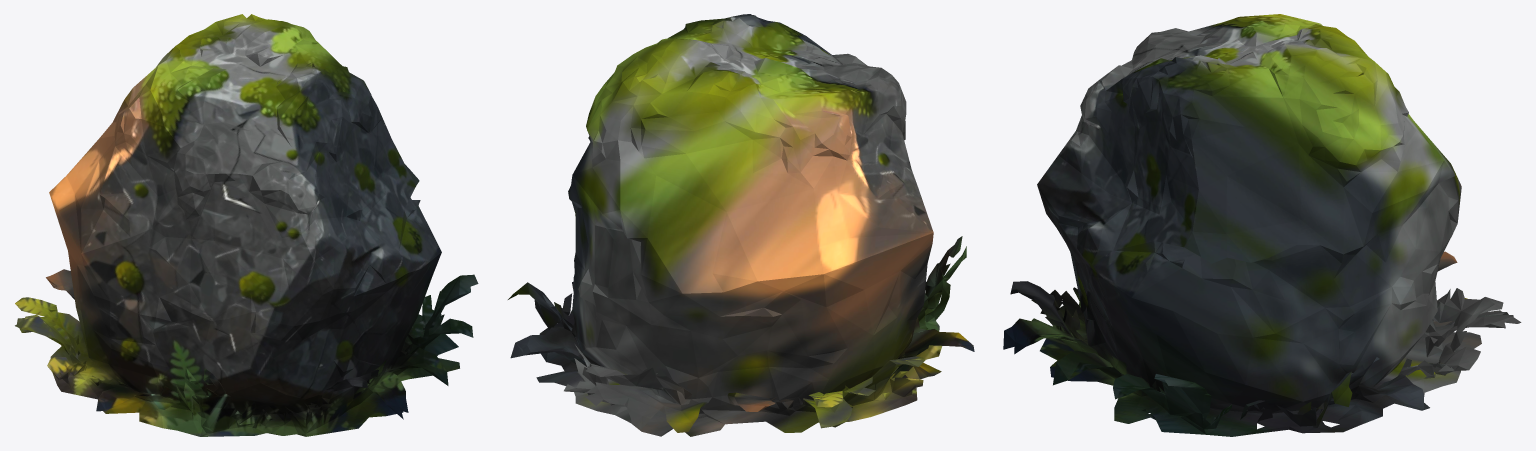
The model's file is rock.glb.
3 renders of one model, left to right at view 1: azimuth 30°, elevation 25°; view 2: azimuth 150°, elevation 25°; view 3: azimuth 270°, elevation 25°, orthographic. The views are drawn at different scales.
Visible parts, largest first — view 1: rock; view 2: rock; view 3: rock.
Part boxes in pixels (box(x1,y1,x2,y2)): rock: box(15, 14, 478, 436); rock: box(508, 14, 974, 436); rock: box(1003, 14, 1521, 436).
Size of the model in its own units: 1.48 by 1.1 by 1.6.
Materials: 1 (1 with a texture image).
